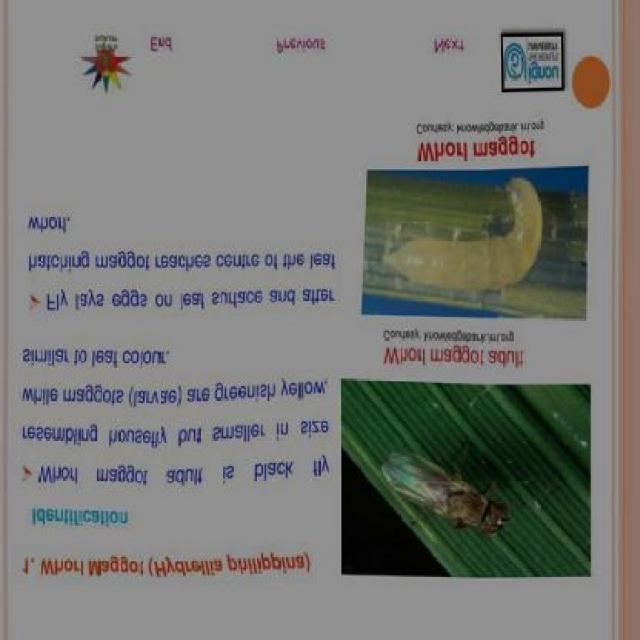whorl-maggot: (376, 172, 546, 302)
